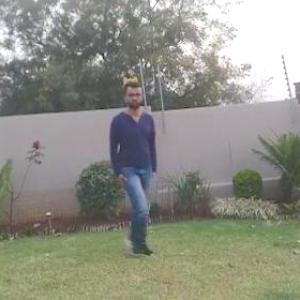follow: (103, 82, 161, 252)
